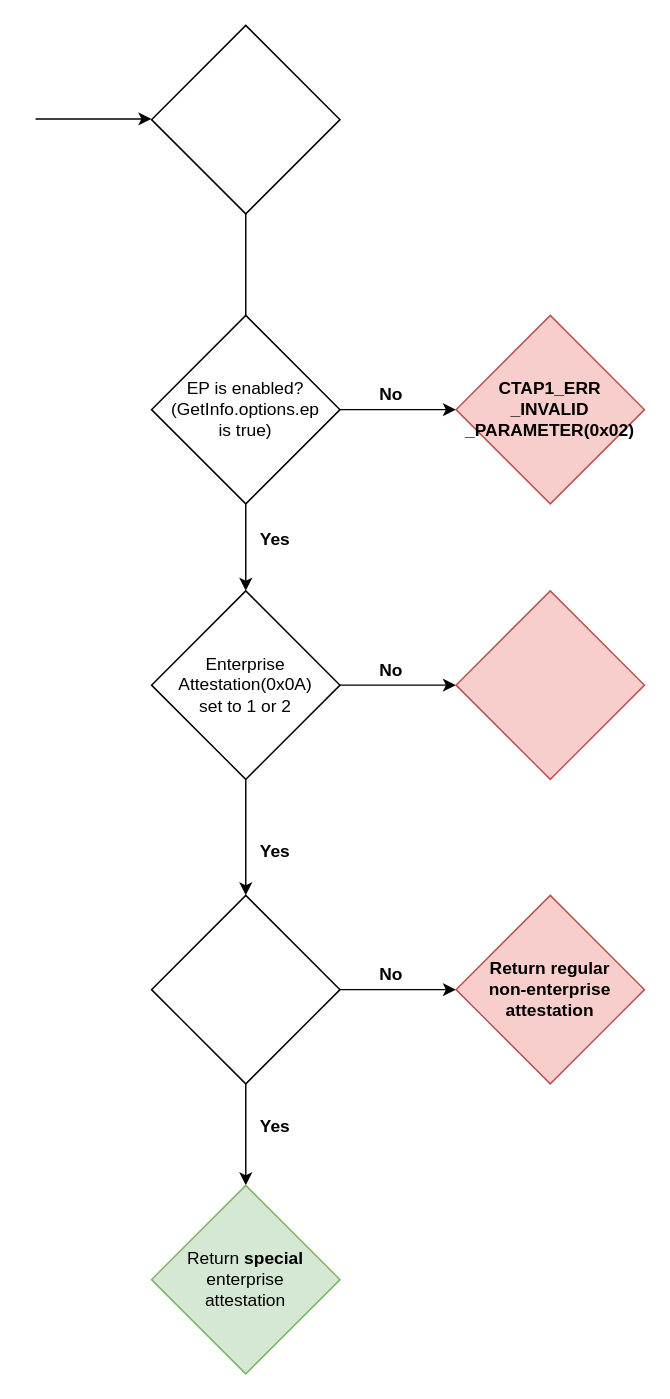
Image size: 670x1399. Some labels were removed from this diagram. The shapes that lost their labels are listed below. From the top down, each one's centre as x and y in pixels, then its label:
At (245,119): "MakeCredential with EP:true".
At (550,684): "CTAP2_ERR _INVALID _OPTION(0x2C)".
At (245,989): "RPID is in pre-configured list".
